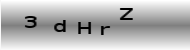3: (22, 14, 38, 29)
H: (76, 20, 93, 35)
Z: (118, 5, 134, 21)
d: (52, 19, 67, 33)
r: (99, 24, 111, 36)
